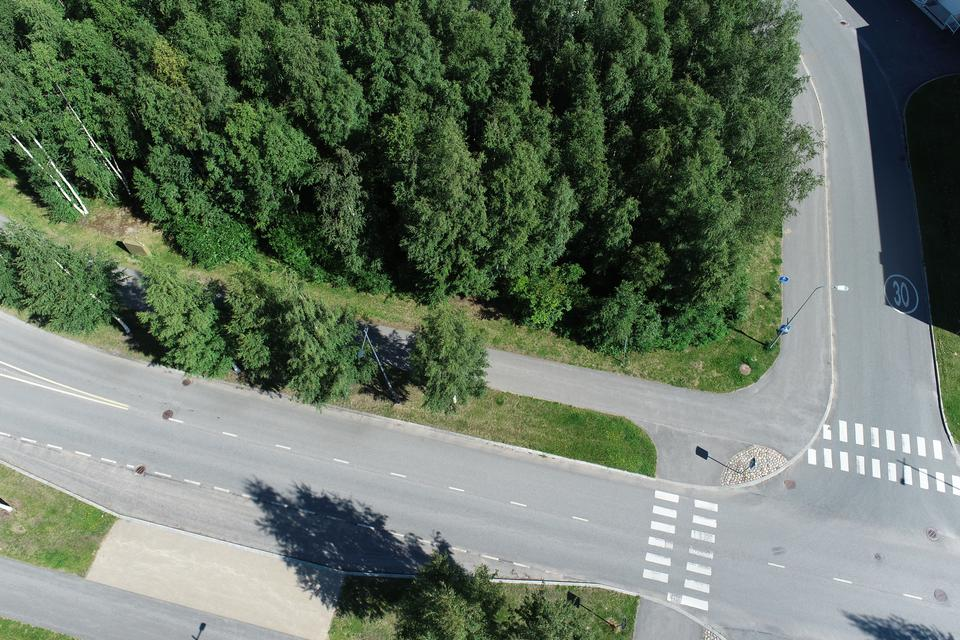intersection: (620, 348, 960, 640)
